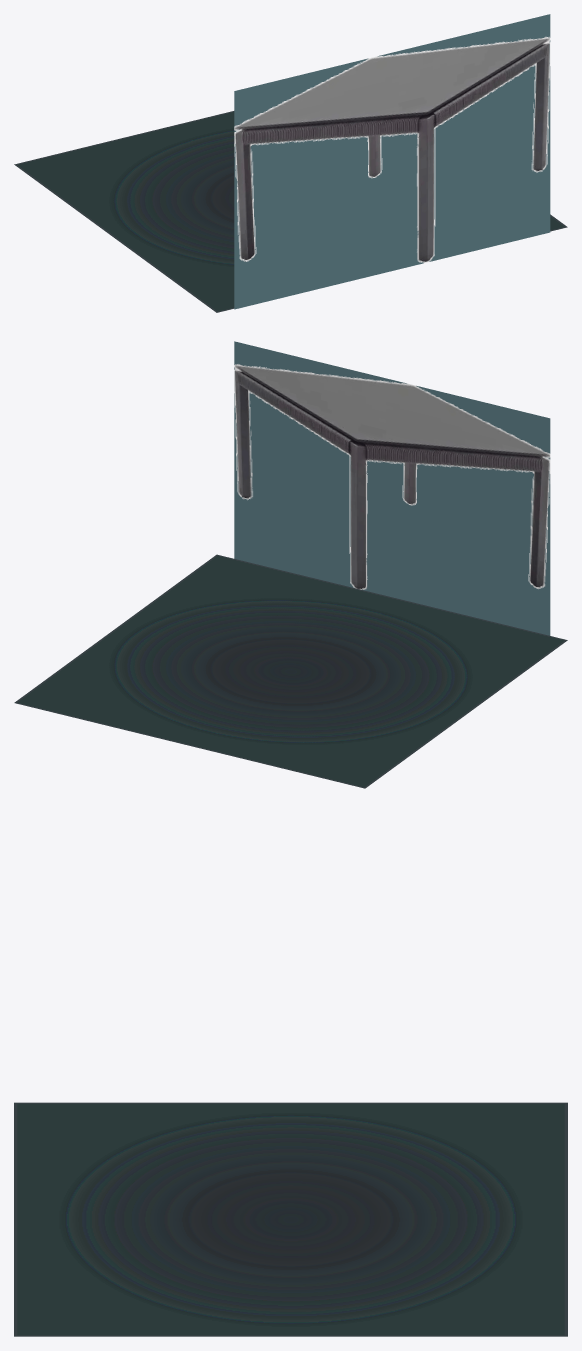
File: garden-tables-club-coffee-table.glb
3 renders of one model, top to bottom at view 1: azimuth 30°, elevation 25°; view 2: azimuth 150°, elevation 25°; view 3: azimuth 270°, elevation 25°, orthographic. The views are drawn at different scales.
Parts seen in each view (by area): view 1: Foto garden-tables-club-coffee-table, Grundflaeche; view 2: Grundflaeche, Foto garden-tables-club-coffee-table; view 3: Grundflaeche.
Boxes of the visible parts, <box> form: Foto garden-tables-club-coffee-table: <box>234,14,550,309</box>; Grundflaeche: <box>14,111,567,312</box>; Grundflaeche: <box>14,554,567,788</box>; Foto garden-tables-club-coffee-table: <box>234,341,550,635</box>; Grundflaeche: <box>14,1102,567,1336</box>.
Size of the model in its own units: 0.8 by 0.4755 by 0.8.
2 materials, 2 textured.
